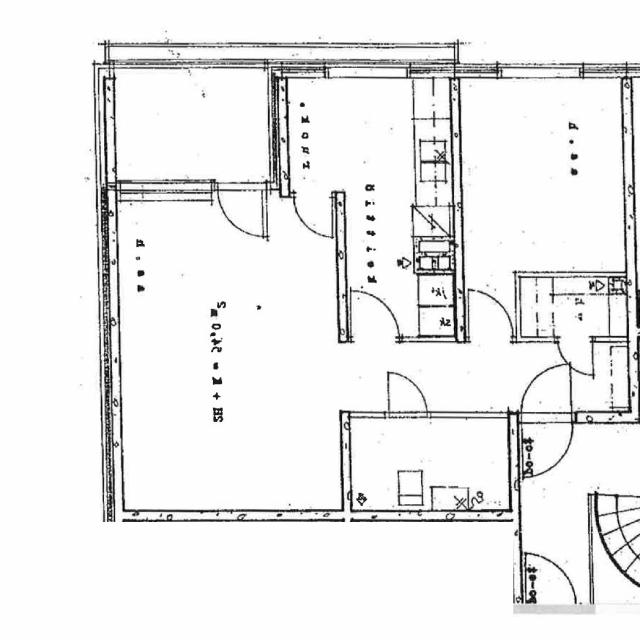door: (522, 360, 573, 422), (522, 412, 573, 474), (218, 183, 267, 246), (351, 287, 400, 342), (218, 183, 262, 241), (469, 292, 514, 342), (293, 187, 333, 237), (389, 373, 428, 418), (558, 336, 594, 378)
